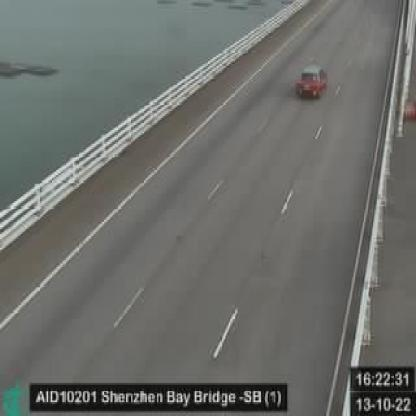Car: (295, 63, 329, 101)
